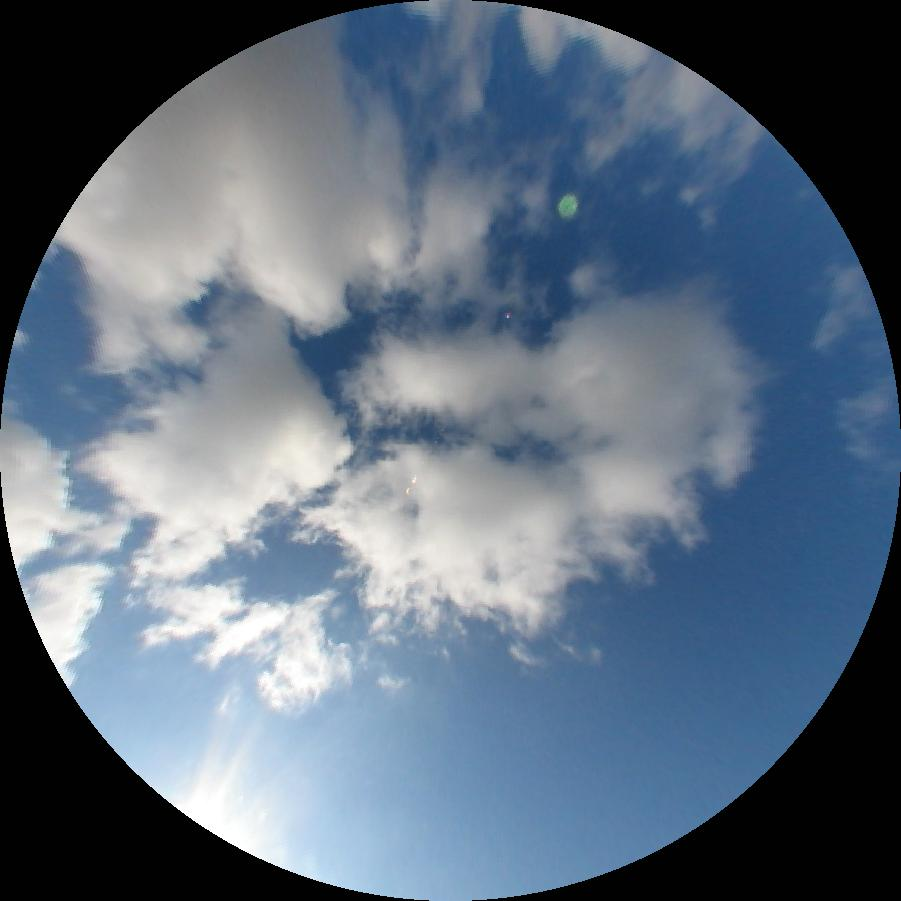sun: (188, 805, 253, 853)
